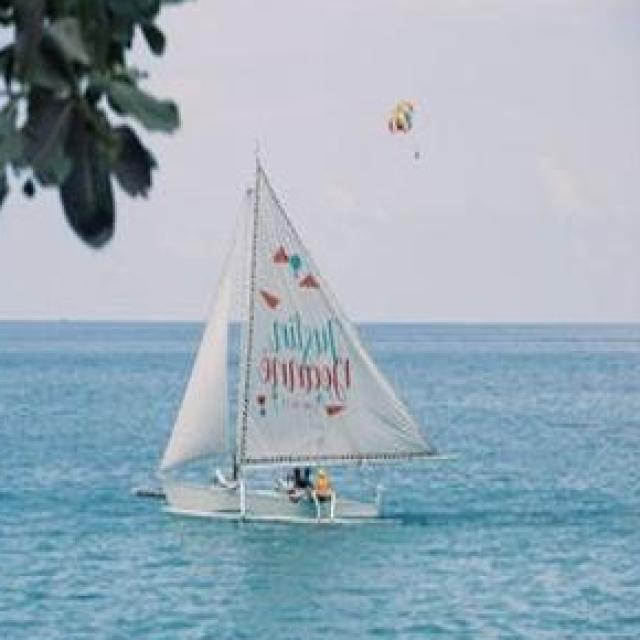sailboat: (150, 145, 436, 522)
